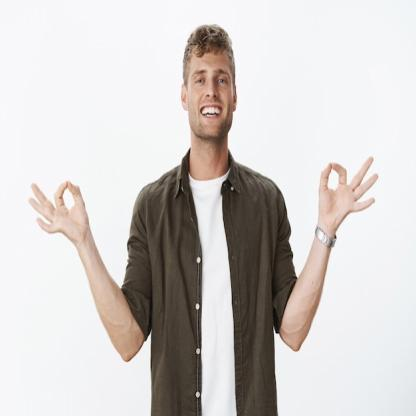ok: (27, 174, 89, 254), (315, 152, 380, 223)
